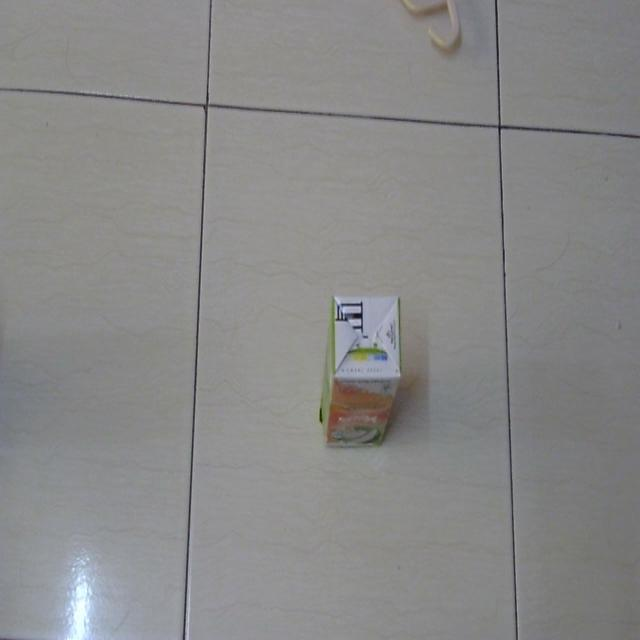plastic_standrotation: (315, 278, 407, 455)
